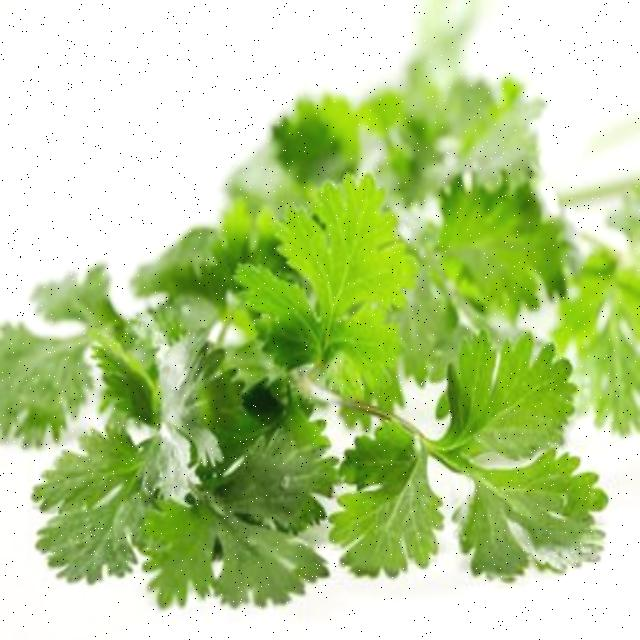Coriander: (61, 123, 588, 551)
